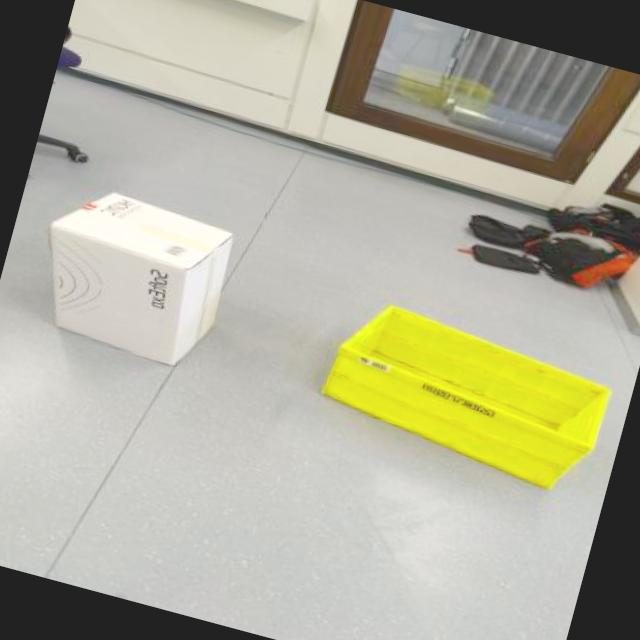box: (286, 287, 638, 511), (14, 144, 268, 406)
